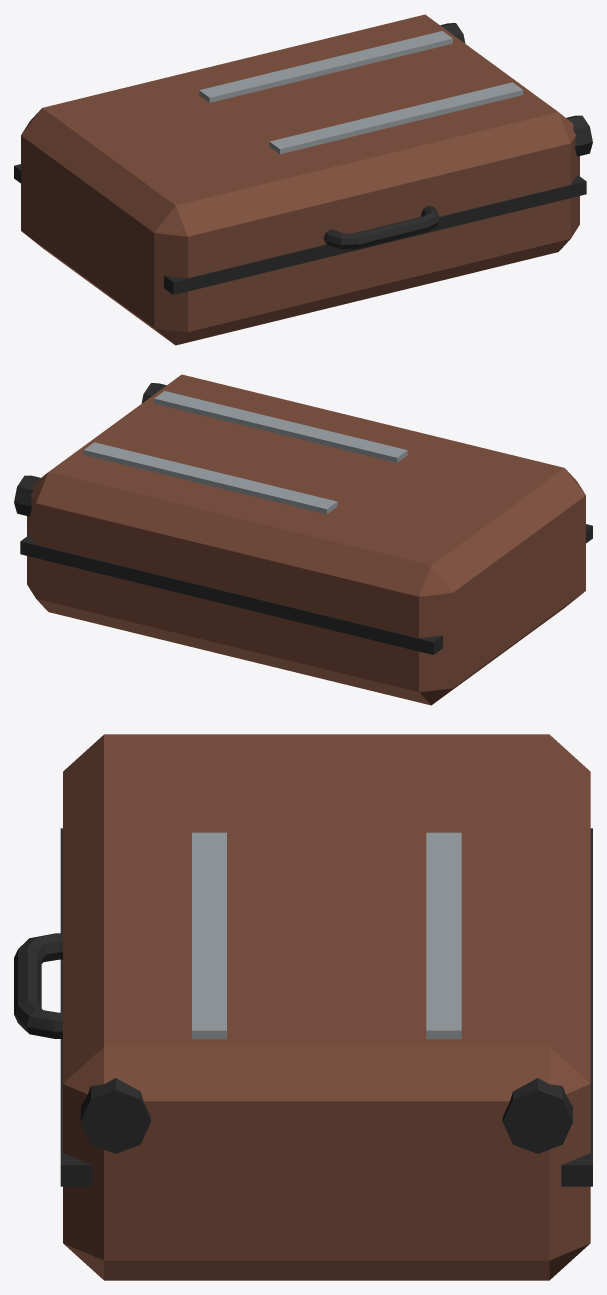
File: valise.glb
The picture shows the model from 3 angles, top to bottom: view 1: azimuth 30°, elevation 25°; view 2: azimuth 150°, elevation 25°; view 3: azimuth 270°, elevation 25°; orthographic projection. The views are drawn at different scales.
Parts seen in each view (by area): view 1: shell, rail, zip, handle, wheels; view 2: shell, rail, zip, wheels; view 3: shell, rail, wheels, zip, handle.
Boxes of the visible parts, <box> form: shell: <box>21,14,579,345</box>; rail: <box>199,31,523,154</box>; zip: <box>14,164,586,294</box>; handle: <box>323,205,439,249</box>; wheels: <box>440,23,592,156</box>; shell: <box>27,374,585,705</box>; rail: <box>83,391,407,514</box>; zip: <box>20,524,592,654</box>; wheels: <box>14,383,166,516</box>; shell: <box>63,734,590,1280</box>; rail: <box>192,832,461,1039</box>; wheels: <box>80,1078,572,1153</box>; zip: <box>60,828,592,1186</box>; handle: <box>14,933,62,1038</box>.
Size of the model in its own units: 0.71 by 0.228 by 0.4938.
Materials: 3 (3 with a texture image).
